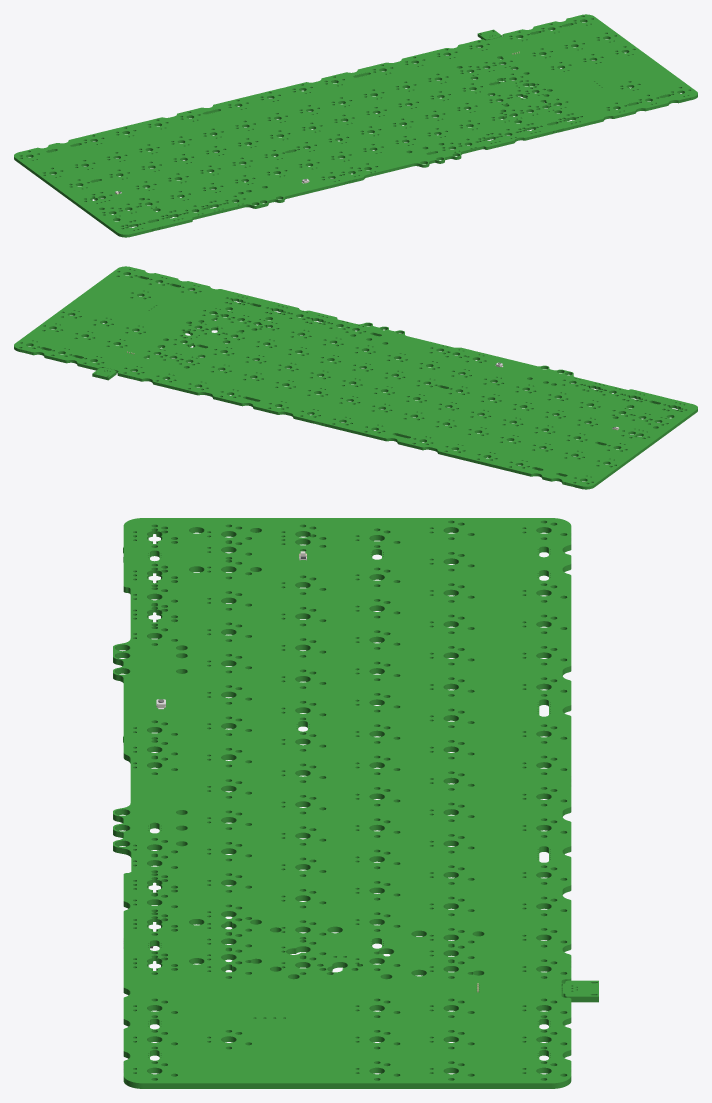
Rendered from pcb-tkl.glb.
3 renders of one model, top to bottom at view 1: azimuth 30°, elevation 25°; view 2: azimuth 150°, elevation 25°; view 3: azimuth 270°, elevation 25°, orthographic. The views are drawn at different scales.
Visible parts, largest first — view 1: Node1, Node3; view 2: Node1, Node3; view 3: Node1, Node3.
Part boxes in pixels (x1,y1,x2,y2): Node1: (14, 14, 697, 237); Node3: (19, 15, 690, 230); Node1: (14, 266, 697, 489); Node3: (19, 269, 686, 484); Node1: (113, 518, 598, 1088); Node3: (115, 520, 598, 1080).
Size of the model in its own units: 344 by 7.29 by 125.
